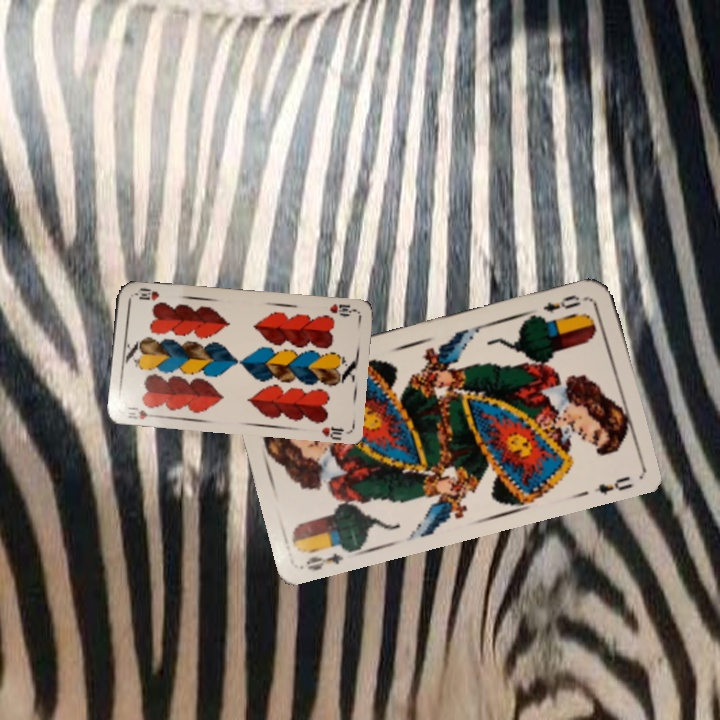EO: (538, 290, 584, 316), (302, 549, 346, 573)
H10: (123, 403, 160, 422), (325, 300, 358, 319)
